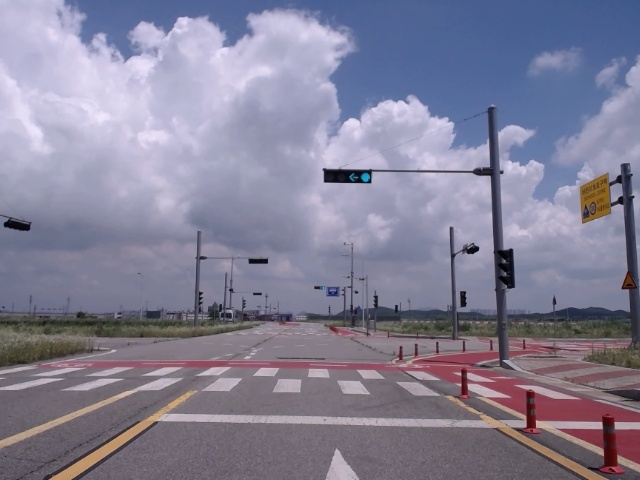all_green_4: (325, 170, 372, 183)
